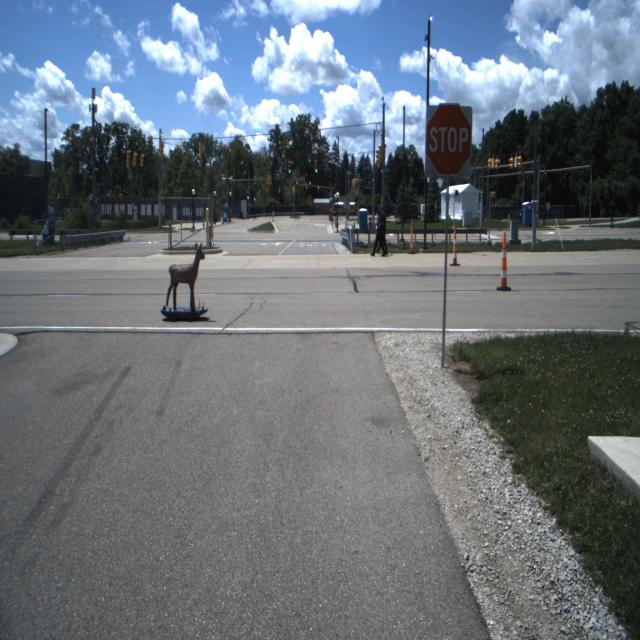Deer: (166, 241, 205, 308)
